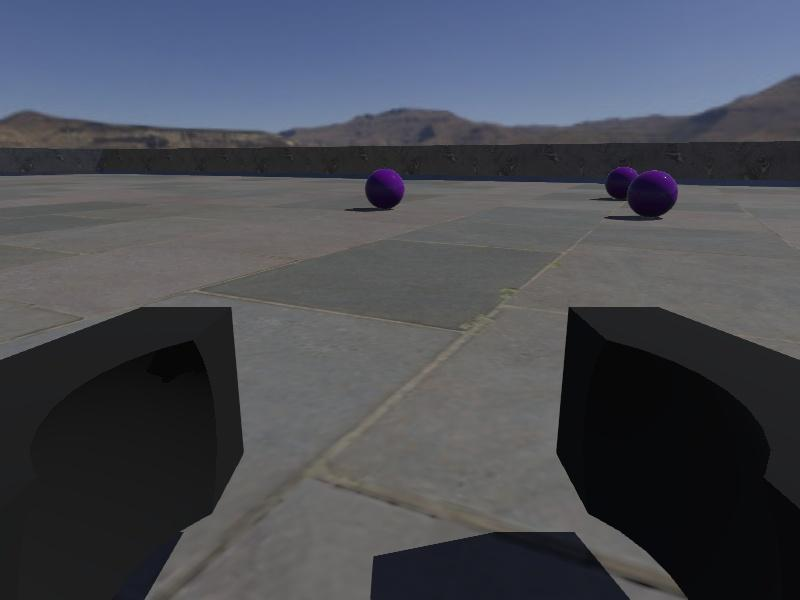violet ball: (628, 170, 677, 216), (365, 168, 404, 208)
